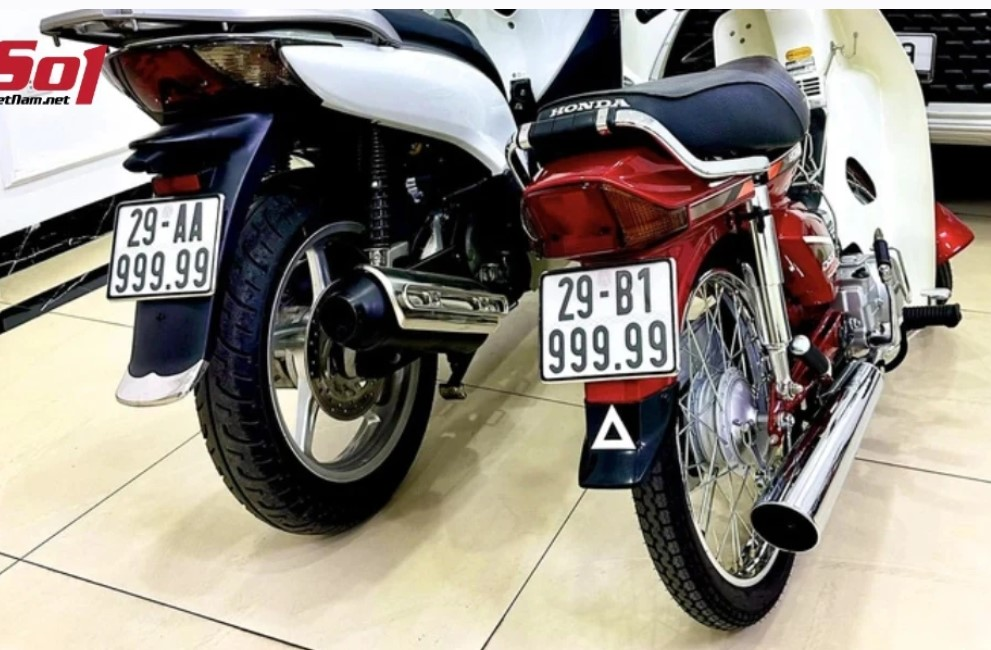bien_so: (534, 250, 688, 389), (102, 185, 230, 304)
